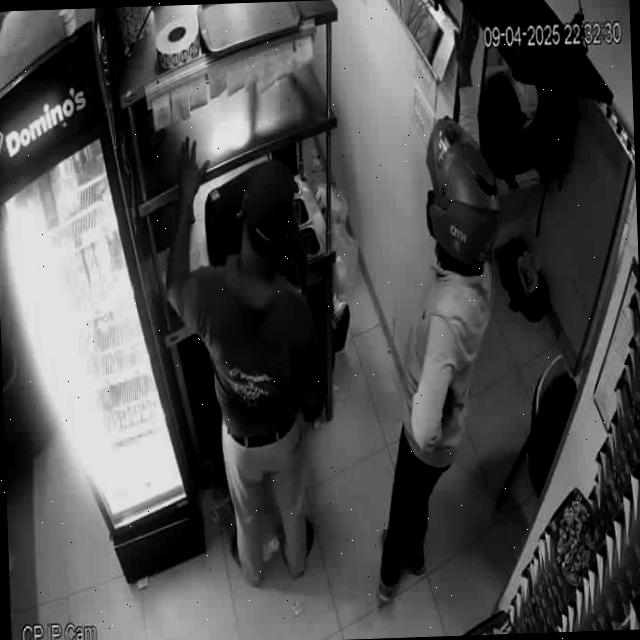helmet: (424, 116, 502, 277)
no_helmet: (238, 153, 290, 294)
